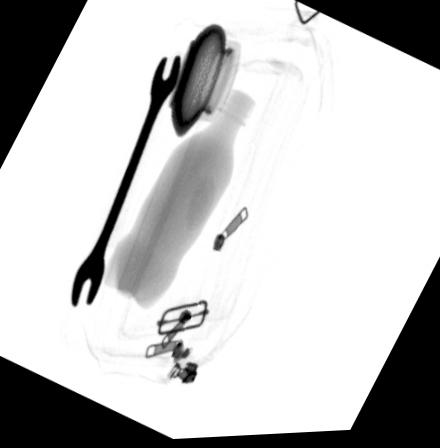Wrench: (70, 53, 182, 310)
